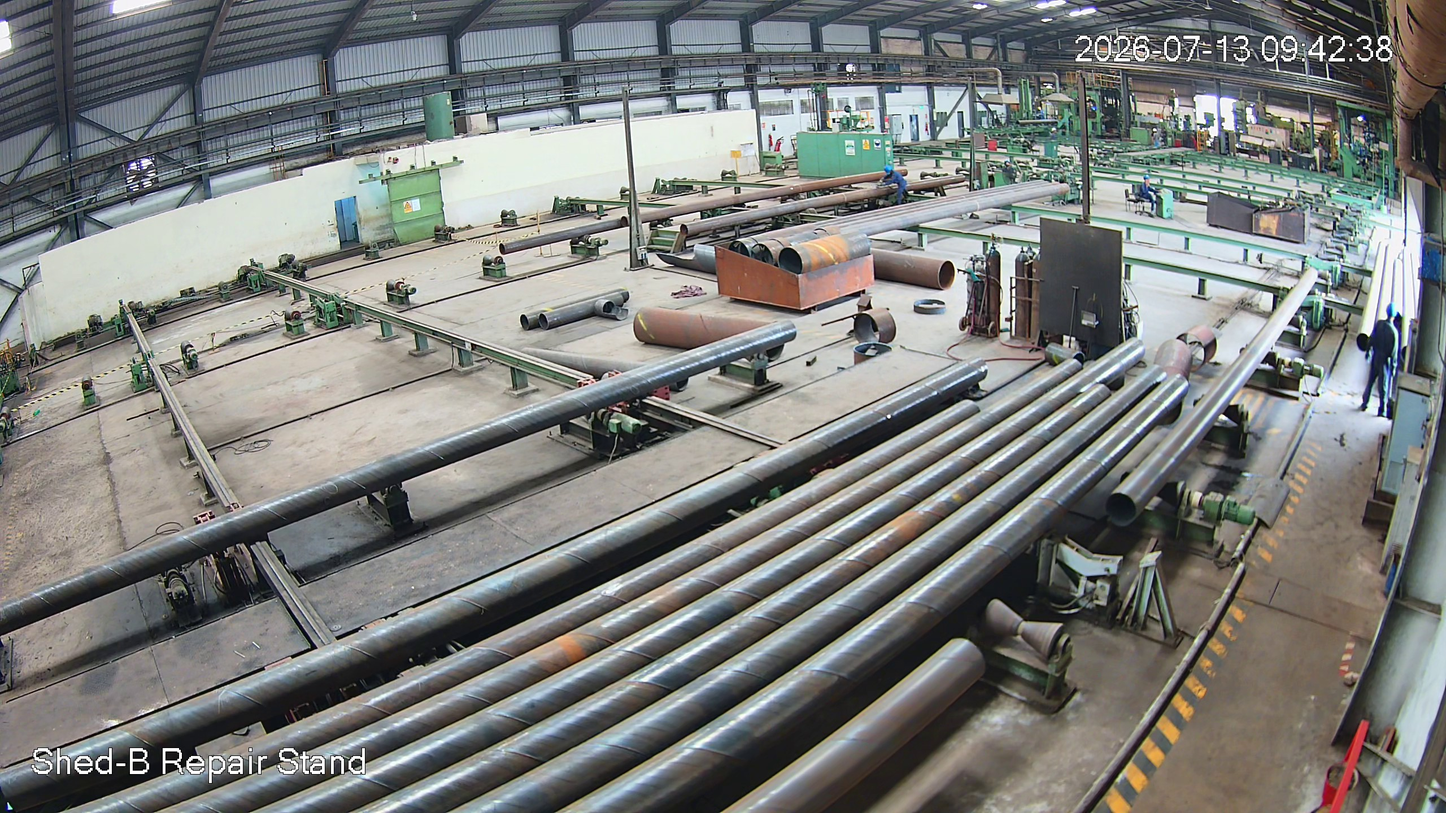Helmet: (1380, 300, 1401, 326)
Person: (1356, 301, 1401, 416)
